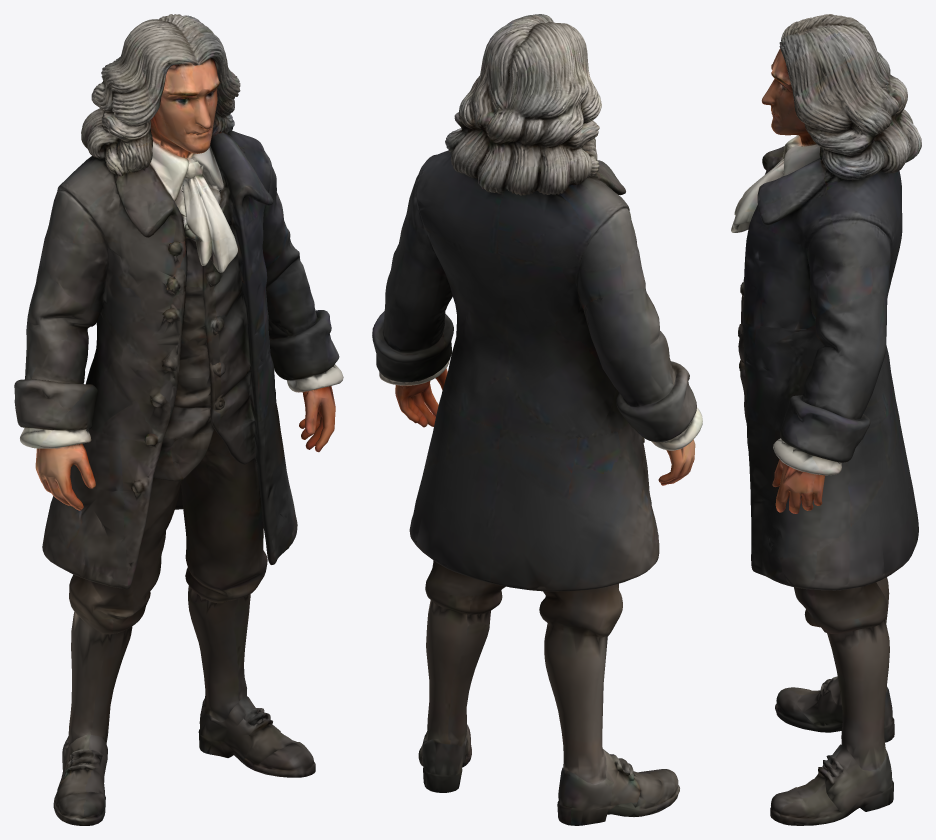
The model's file is newton.glb.
3 views of the same model, side by side, from view 1: azimuth 30°, elevation 25°; view 2: azimuth 150°, elevation 25°; view 3: azimuth 270°, elevation 25° (orthographic).
Visible parts, largest first — view 1: tripo_node_15675ea0-0391-4703-a54e-12603824cdf8; view 2: tripo_node_15675ea0-0391-4703-a54e-12603824cdf8; view 3: tripo_node_15675ea0-0391-4703-a54e-12603824cdf8.
Boxes of the visible parts, bbox=[...] form: tripo_node_15675ea0-0391-4703-a54e-12603824cdf8: bbox=[14, 14, 343, 825]; tripo_node_15675ea0-0391-4703-a54e-12603824cdf8: bbox=[372, 14, 702, 825]; tripo_node_15675ea0-0391-4703-a54e-12603824cdf8: bbox=[731, 14, 921, 825].
Bounding box in the file's own units: 0.4189 × 0.979 × 0.2272.
1 material, 1 textured.
